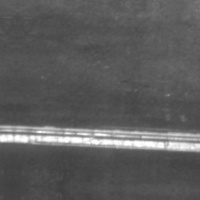scratches: (14, 119, 199, 155)
